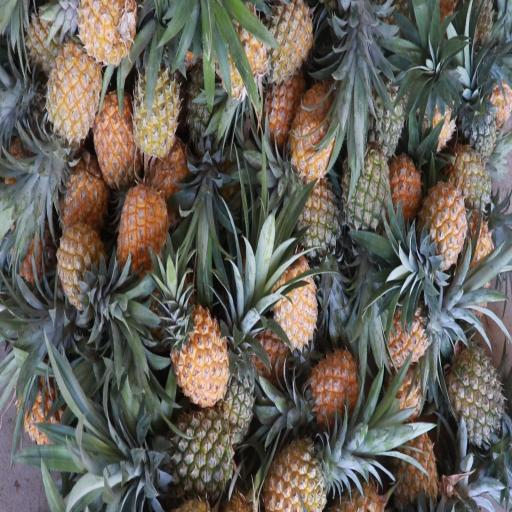------------------------------: (290, 148, 341, 266), (452, 140, 492, 225)
Pineapple - v8 v1: (38, 27, 104, 147), (283, 54, 342, 175), (298, 324, 361, 430), (166, 305, 229, 410), (127, 50, 183, 165), (48, 212, 104, 323), (262, 423, 331, 512), (112, 179, 170, 284), (411, 177, 470, 280), (379, 413, 439, 512), (87, 75, 137, 191), (369, 273, 433, 362), (270, 237, 316, 356), (260, 4, 312, 82)
